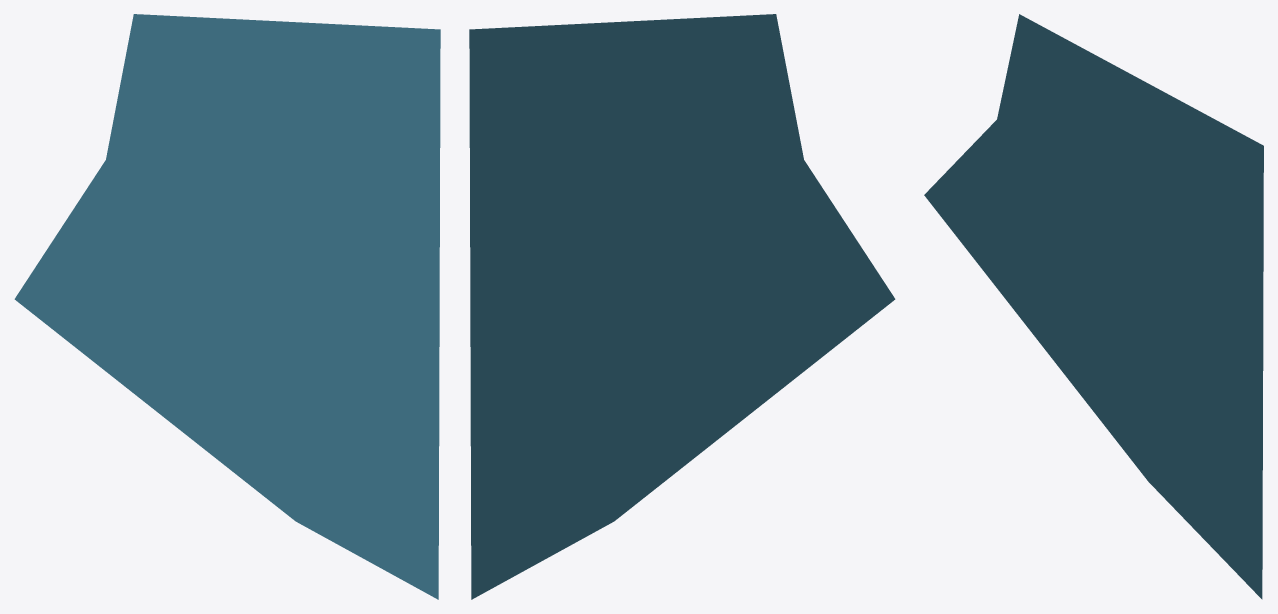
The model's file is NexusA_Trigger_1.fbx.
3 views of the same model, side by side, from view 1: azimuth 30°, elevation 25°; view 2: azimuth 150°, elevation 25°; view 3: azimuth 330°, elevation 25° (orthographic). The views are drawn at different scales.
Visible parts, largest first — view 1: pasted__polySurface18; view 2: pasted__polySurface18; view 3: pasted__polySurface18.
Boxes of the visible parts, x1,y1,x2,y2 form: pasted__polySurface18: (14, 14, 440, 599); pasted__polySurface18: (469, 14, 895, 599); pasted__polySurface18: (924, 14, 1263, 599).
Size of the model in its own units: 34.58 by 51.2 by 1.49e-07.
